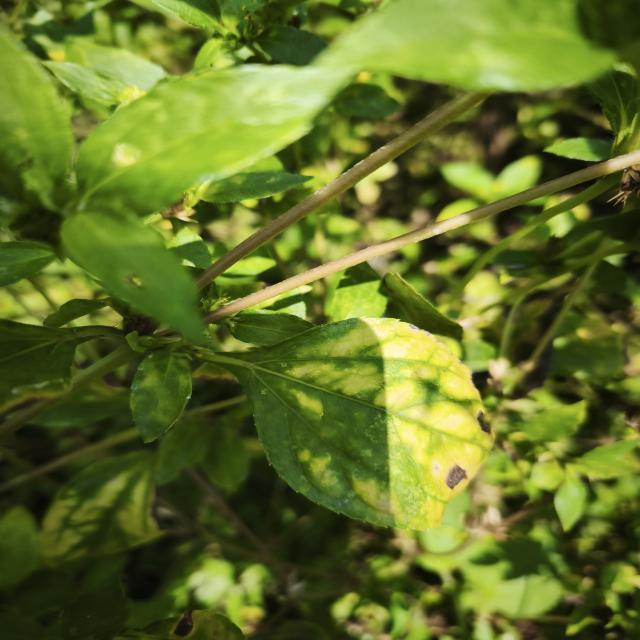Virus Kuning: (236, 313, 496, 531)
